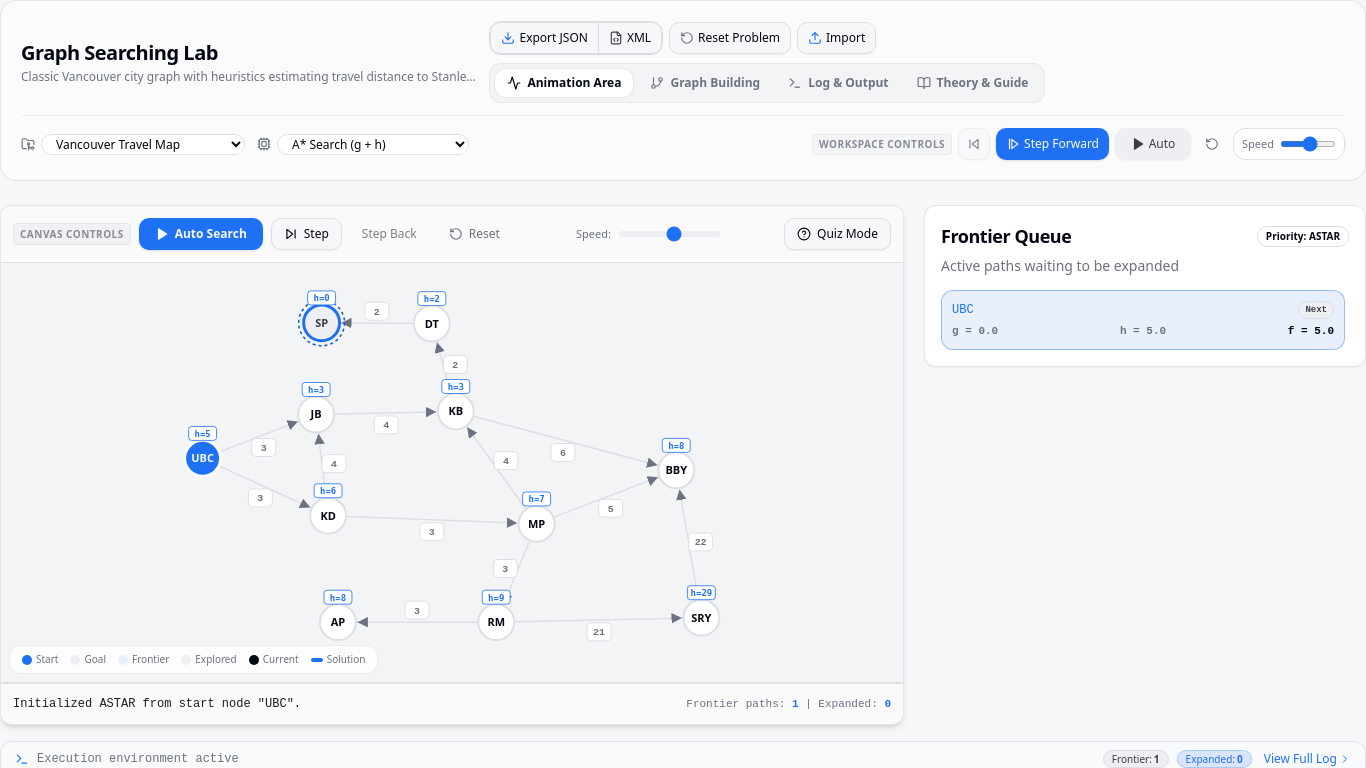
Scenario: AI Playground Consistent Workspace & Drag-and-Drop Graph Builder › 13. SearchTool handles custom blank graph without throwing
Step 1. Click the button "Graph Building" → (705, 83), box top-left (638, 69), bottom-right (772, 97)
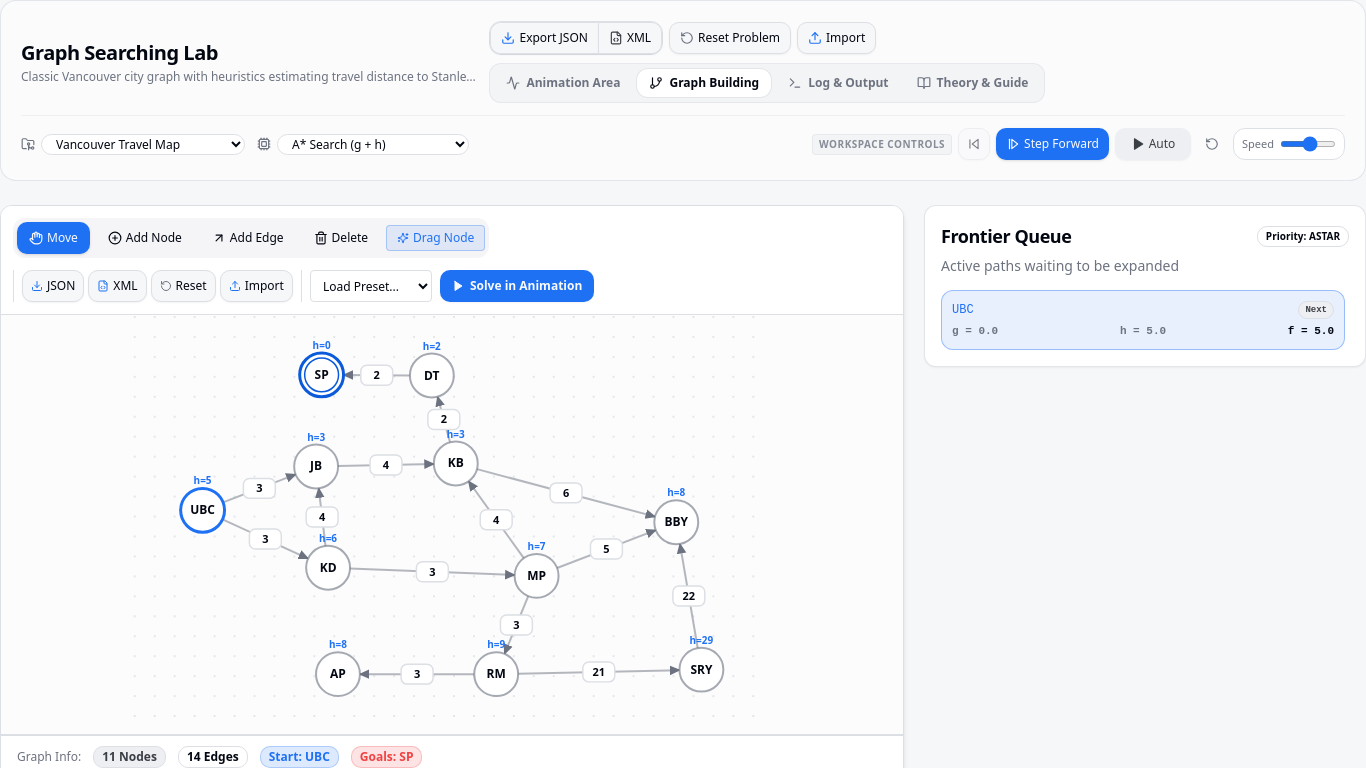
Step 2. Select "Blank Canvas" in the dropdown named "Load Graph Preset" → (371, 286), box top-left (310, 270), bottom-right (432, 302)
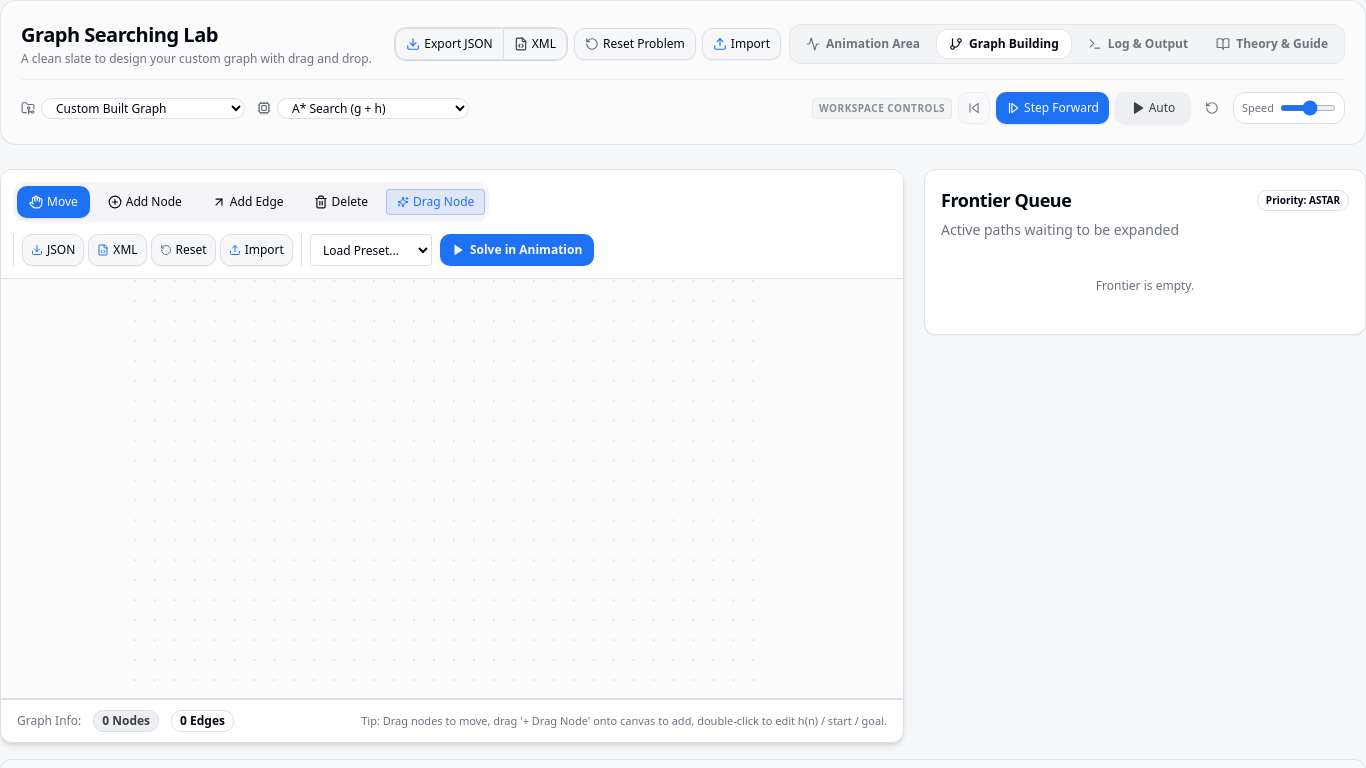
Check: the text "0 Nodes" is shown, box top-left (93, 710), bottom-right (159, 732)
Step 3. Click the button "Solve in Animation" → (517, 250), box top-left (440, 234), bottom-right (594, 266)
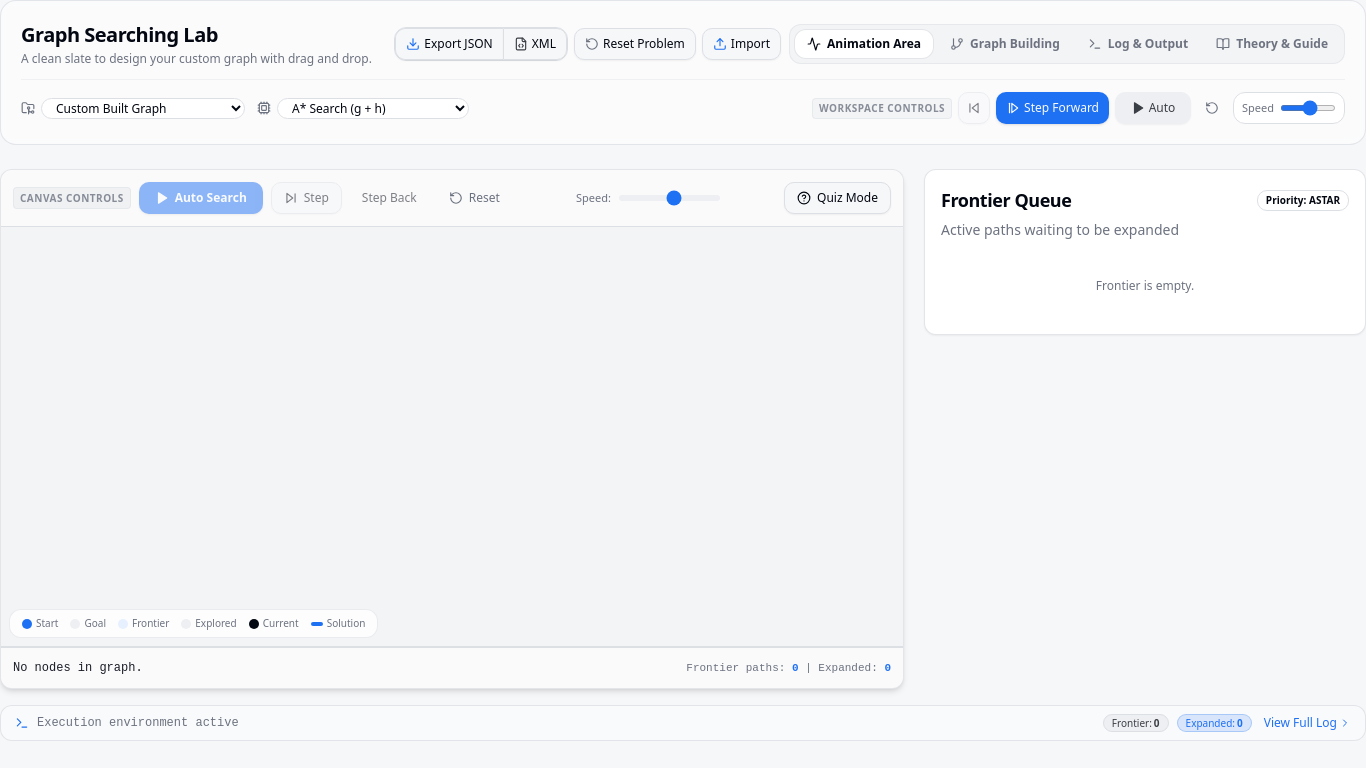
Check: the text "No nodes in graph." is shown, box top-left (13, 660), bottom-right (143, 676)
